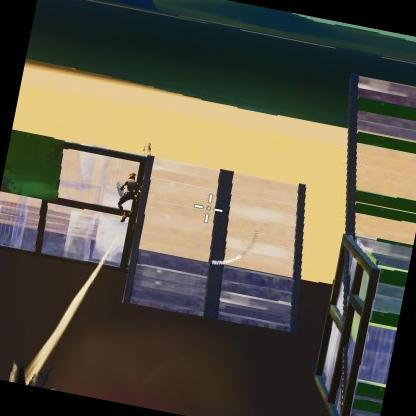person: (114, 177, 142, 218), (123, 171, 137, 190)
